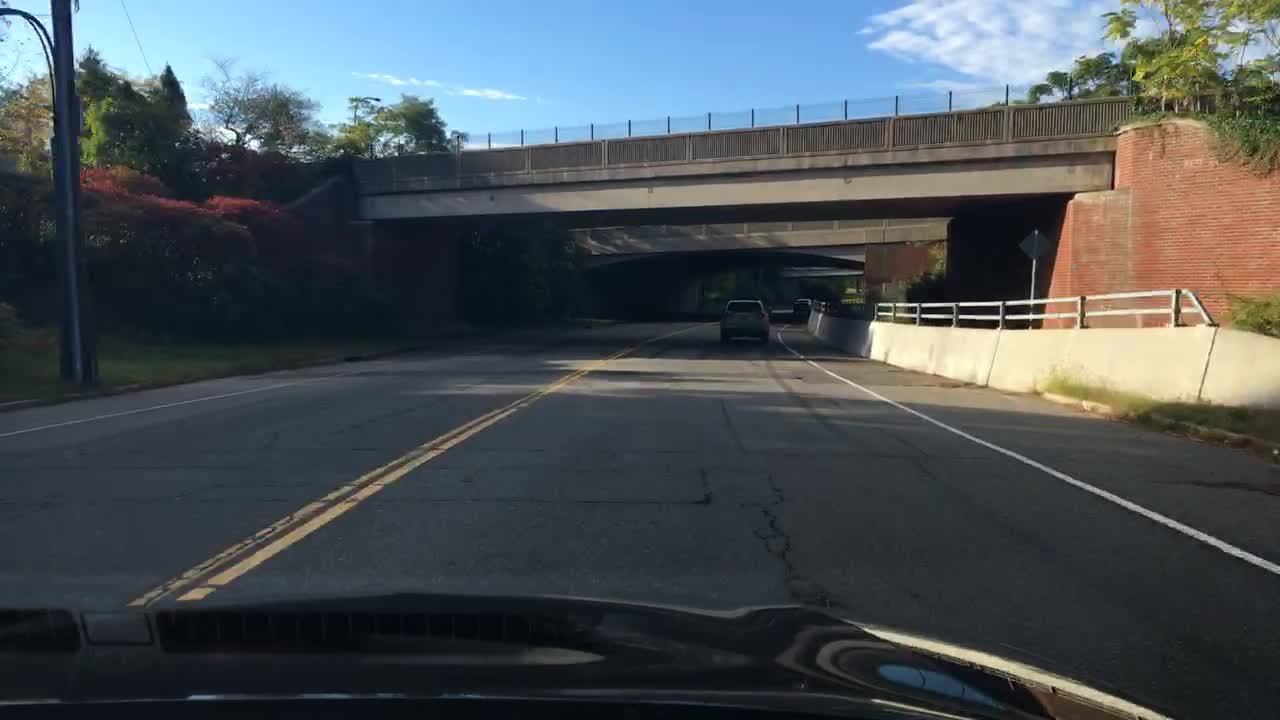car: (718, 297, 772, 341), (790, 295, 813, 315), (813, 293, 830, 310)
traffic sign: (1021, 226, 1050, 259)
